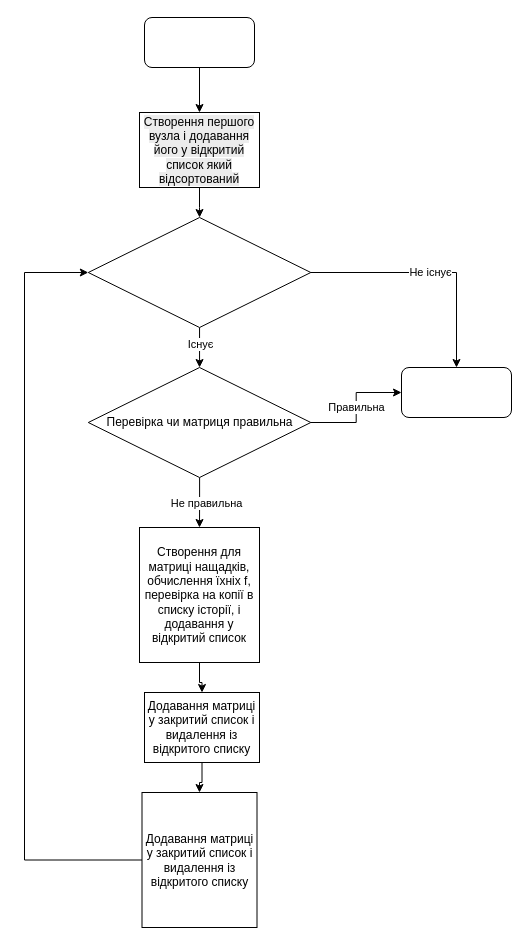
Some shapes in this 529 by 945 pixel diagram are drawn without their labels. The centre of each missing label's shape, as x and y in pixels:
End: point (456, 392)
Start пошук методом А*: point (199, 42)
Взяття першого елемента у відкритому списку якщо існує: point (199, 272)
